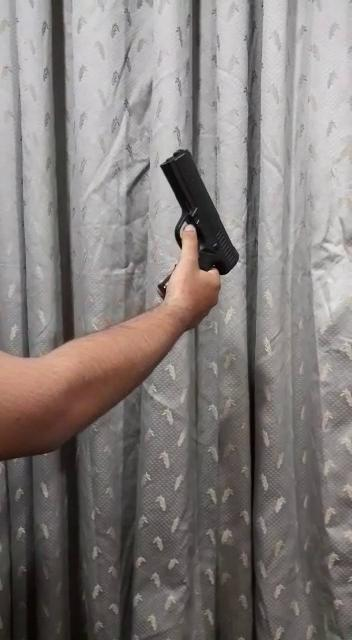weapon: (153, 145, 245, 303)
